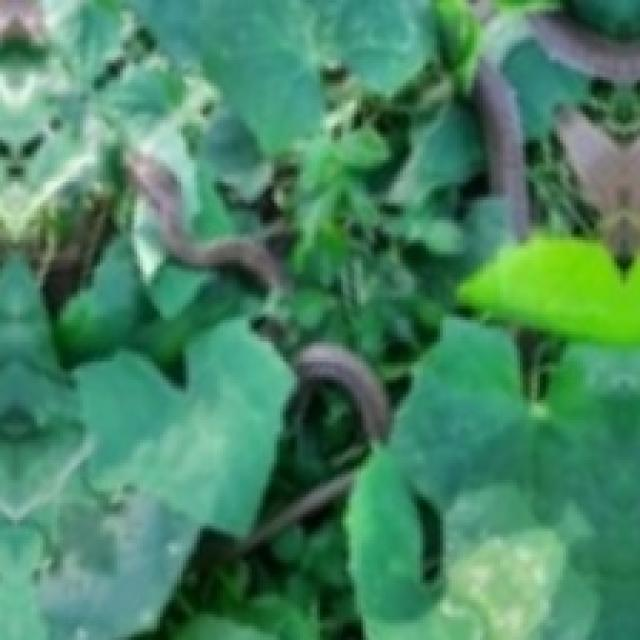paradise tree snake: (126, 149, 283, 289)
